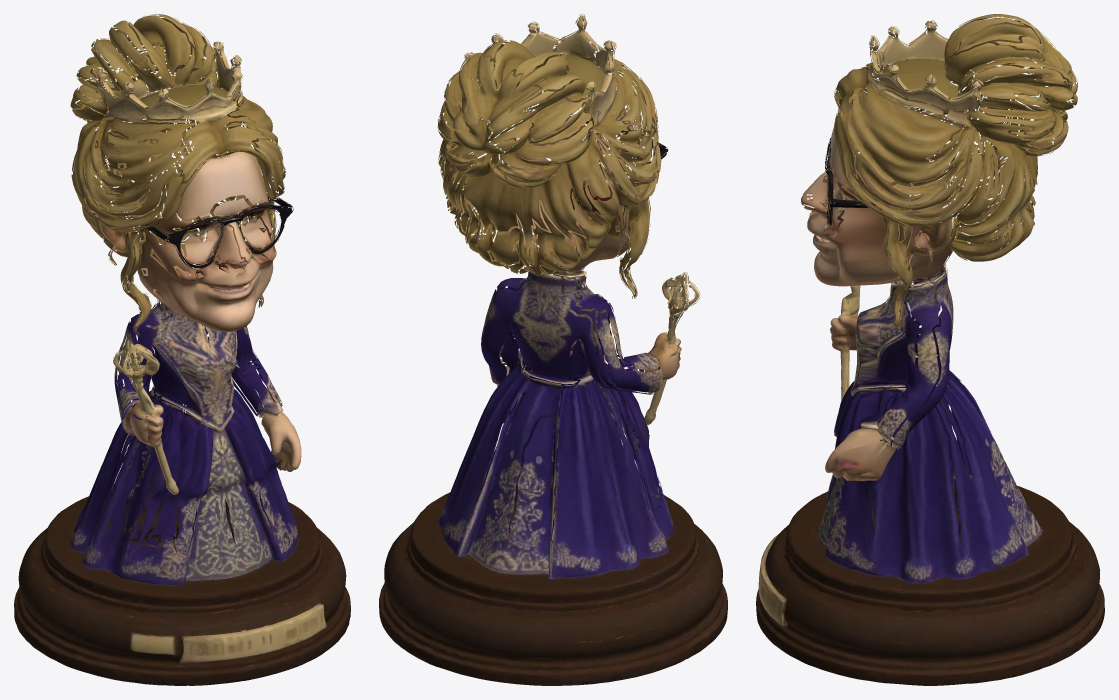
File: queen-kate-wedding2016-remastered.glb
3 views of the same model, side by side, from view 1: azimuth 30°, elevation 25°; view 2: azimuth 150°, elevation 25°; view 3: azimuth 270°, elevation 25° (orthographic). The views are drawn at different scales.
Visible parts, largest first — view 1: Queen_Kate_Wedding2016; view 2: Queen_Kate_Wedding2016; view 3: Queen_Kate_Wedding2016.
Part boxes in pixels (left/top/right/bottom): Queen_Kate_Wedding2016: left=14, top=14, right=350, bottom=685; Queen_Kate_Wedding2016: left=379, top=14, right=727, bottom=685; Queen_Kate_Wedding2016: left=756, top=14, right=1104, bottom=685.
Size of the model in its own units: 0.5388 by 1 by 0.539.
1 material, 1 textured.
